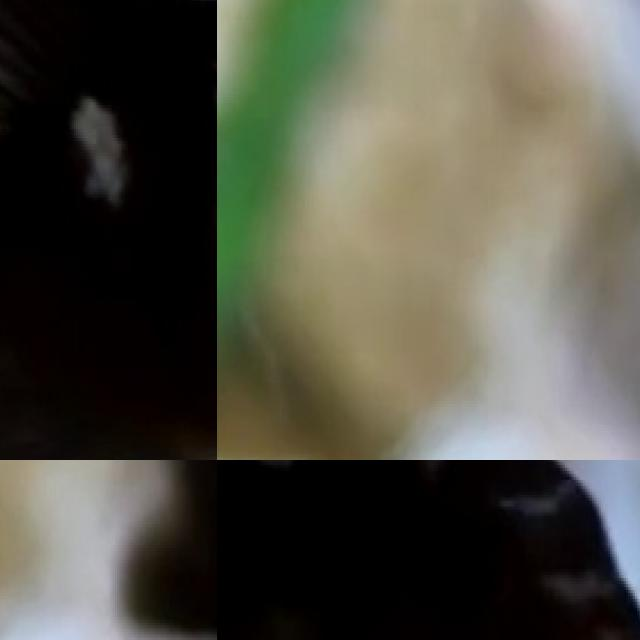fish: (0, 0, 217, 460), (119, 460, 217, 640)
